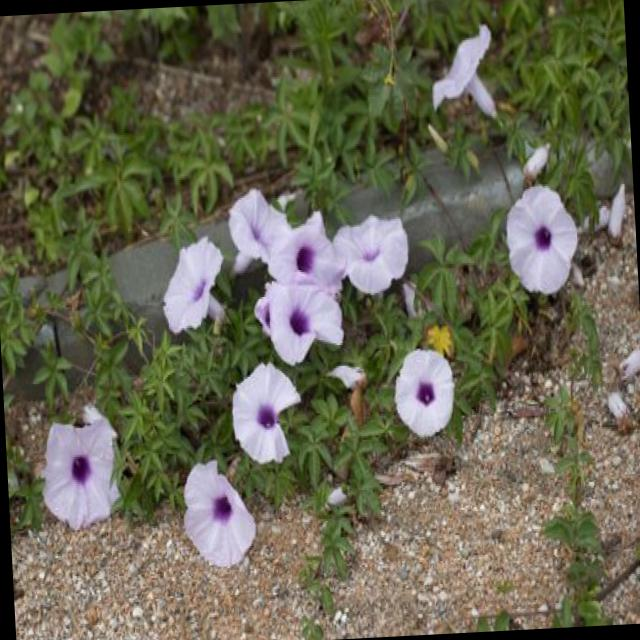ipomoea: (35, 410, 126, 536), (500, 179, 584, 302), (178, 454, 262, 574), (226, 357, 308, 472), (424, 19, 502, 128), (261, 276, 348, 372), (155, 232, 231, 341), (331, 208, 414, 302), (388, 343, 461, 444)
